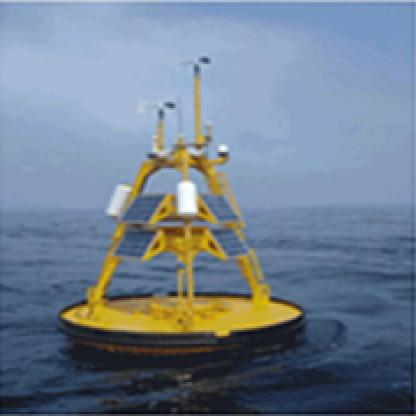buoy: (49, 46, 314, 366)
